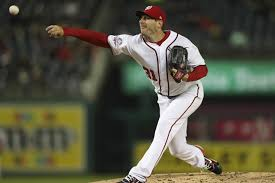baseball: (7, 4, 20, 16)
baseball player: (44, 2, 226, 183)
